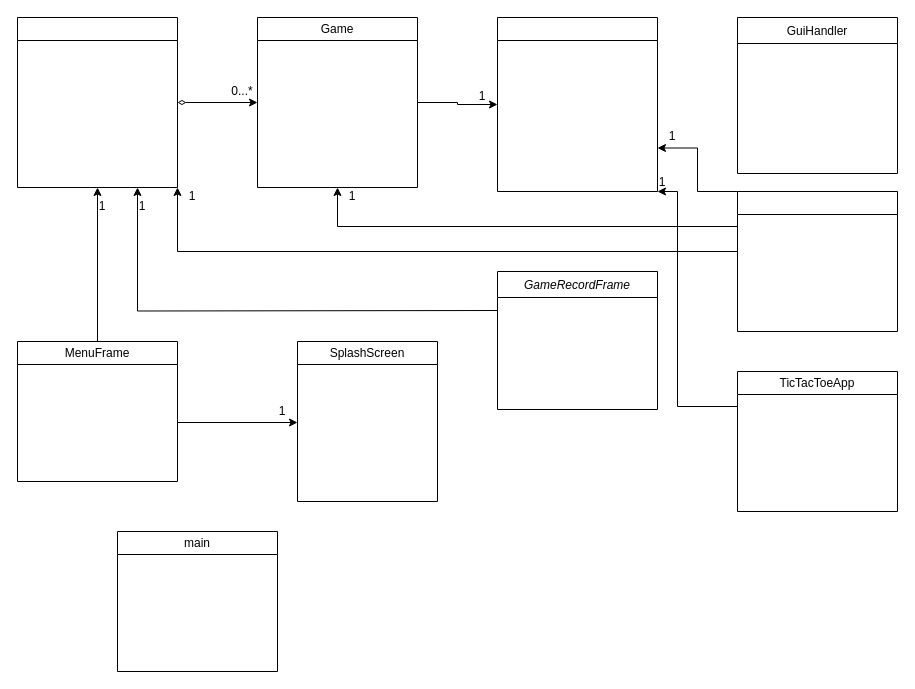
Image size: 915x689. Some labels were removed from this diagram. The shapes that lost their labels are listed below. From the top down, each one's centre as x and y in pixels, then its label:
At point (97, 102): "GameHistory".
At point (577, 104): "TicTacToe".
At point (817, 261): "TicTacToeAppFrame".
